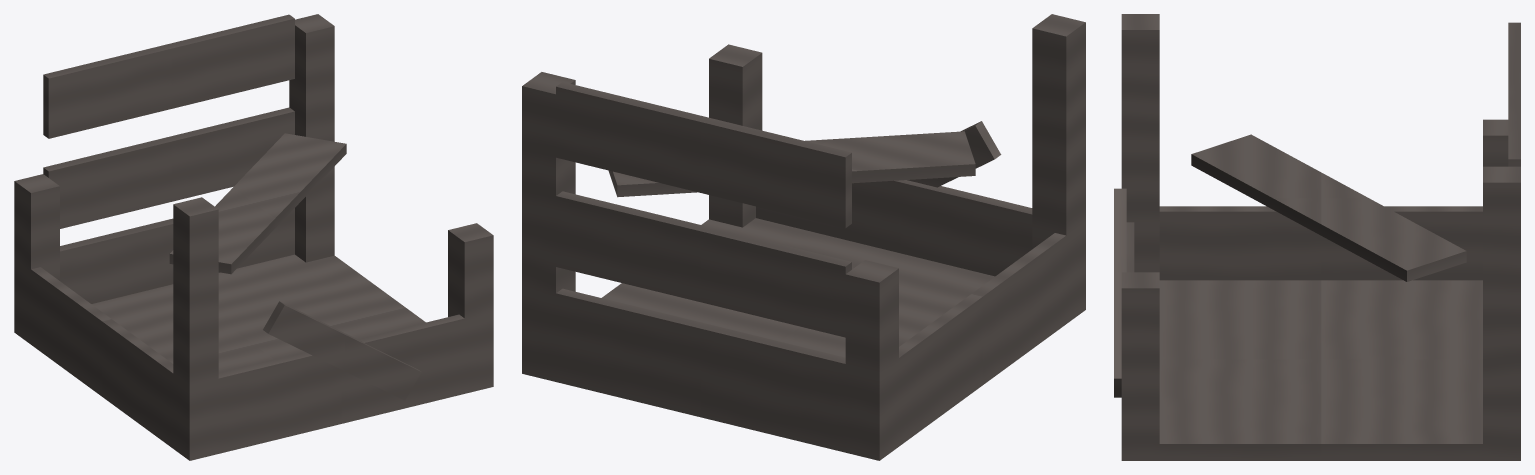
File: SM_Souq_CrateBroken.fbx
3 renders of one model, left to right at view 1: azimuth 30°, elevation 25°; view 2: azimuth 150°, elevation 25°; view 3: azimuth 270°, elevation 25°, orthographic. The views are drawn at different scales.
Parts seen in each view (by area): view 1: SM_Souq_CrateBroken; view 2: SM_Souq_CrateBroken; view 3: SM_Souq_CrateBroken.
Part boxes in pixels (x1,y1,x2,y2): SM_Souq_CrateBroken: (14,14,493,460); SM_Souq_CrateBroken: (522,14,1085,460); SM_Souq_CrateBroken: (1114,14,1520,460).
Bounding box in the file's own units: 63.24 × 49.95 × 64.44.
1 material, 1 textured.
